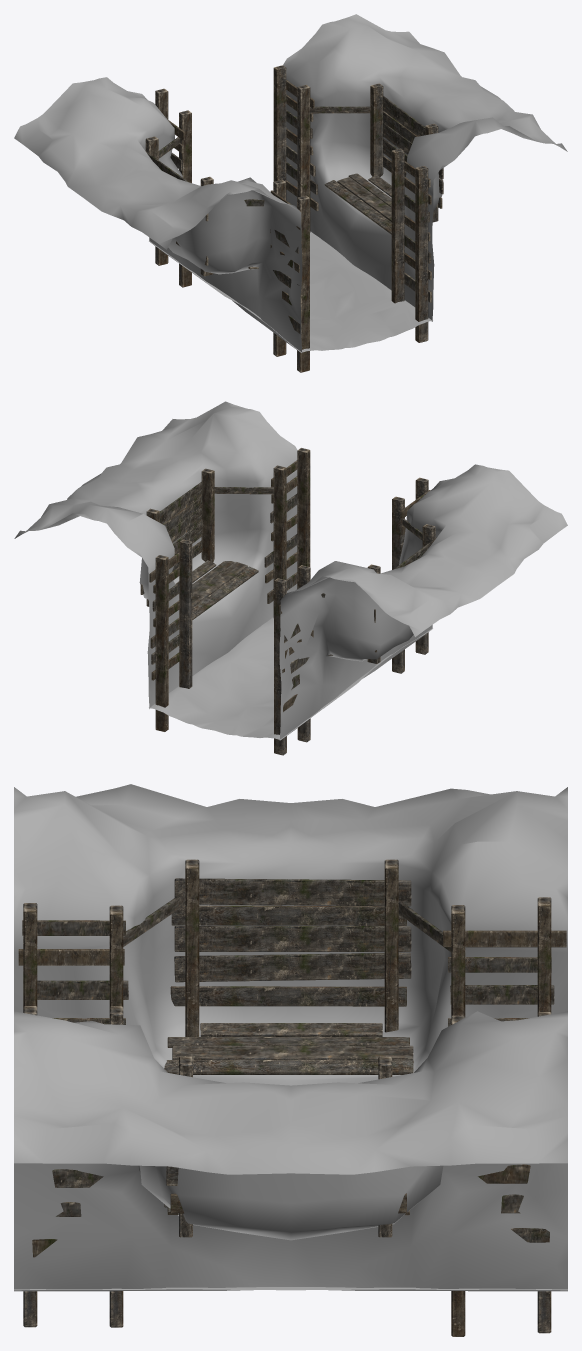
File: Ground_Firebay_Wood_Double_B.fbx
3 renders of one model, top to bottom at view 1: azimuth 30°, elevation 25°; view 2: azimuth 150°, elevation 25°; view 3: azimuth 270°, elevation 25°, orthographic. The views are drawn at different scales.
Parts seen in each view (by area): view 1: Ground_Firebay_Wood_Double_B_LOD0; view 2: Ground_Firebay_Wood_Double_B_LOD0; view 3: Ground_Firebay_Wood_Double_B_LOD0.
Boxes of the visible parts, x1,y1,x2,y2 form: Ground_Firebay_Wood_Double_B_LOD0: (14, 14, 567, 372); Ground_Firebay_Wood_Double_B_LOD0: (14, 401, 567, 755); Ground_Firebay_Wood_Double_B_LOD0: (14, 784, 567, 1336).
Size of what is drawn, in the model's own units: 627 by 294 by 400.
